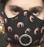with_mask: (1, 1, 44, 47)
